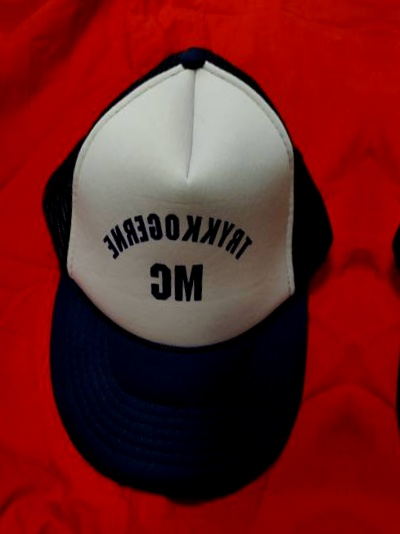Hat: (8, 13, 365, 505), (356, 43, 400, 534), (399, 0, 400, 13)
